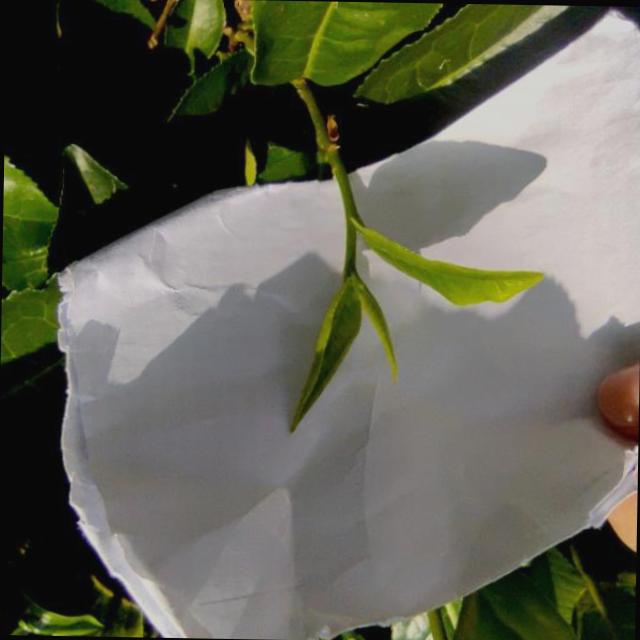Stem: (344, 256, 354, 269)
